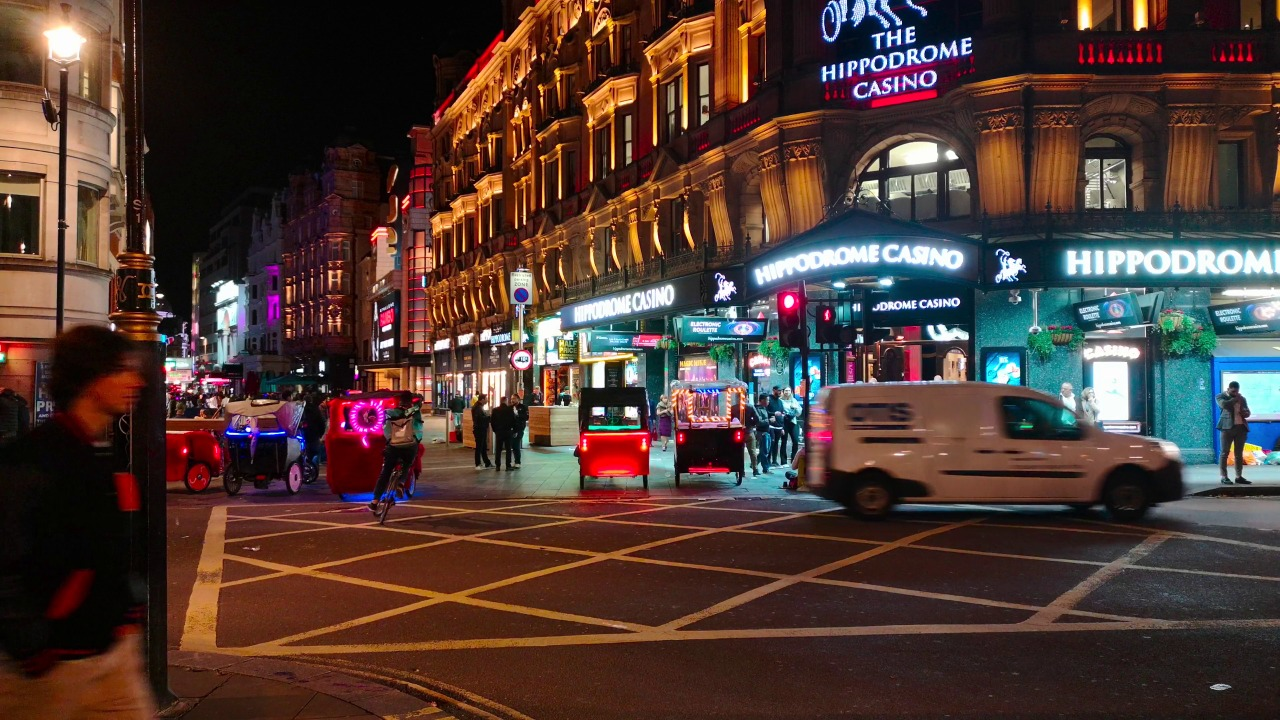car: (802, 387, 1169, 514), (228, 402, 312, 487), (582, 387, 639, 489), (684, 385, 732, 469), (174, 418, 221, 487), (341, 396, 382, 475)
person: (41, 348, 215, 717), (1199, 375, 1253, 479), (387, 399, 421, 538), (753, 396, 782, 481), (510, 392, 529, 461), (470, 392, 486, 470), (654, 393, 670, 462), (495, 393, 509, 466), (746, 408, 757, 473), (1056, 375, 1074, 406), (1086, 388, 1098, 422), (786, 386, 798, 420), (449, 390, 459, 423), (772, 390, 784, 412), (533, 384, 544, 397)
